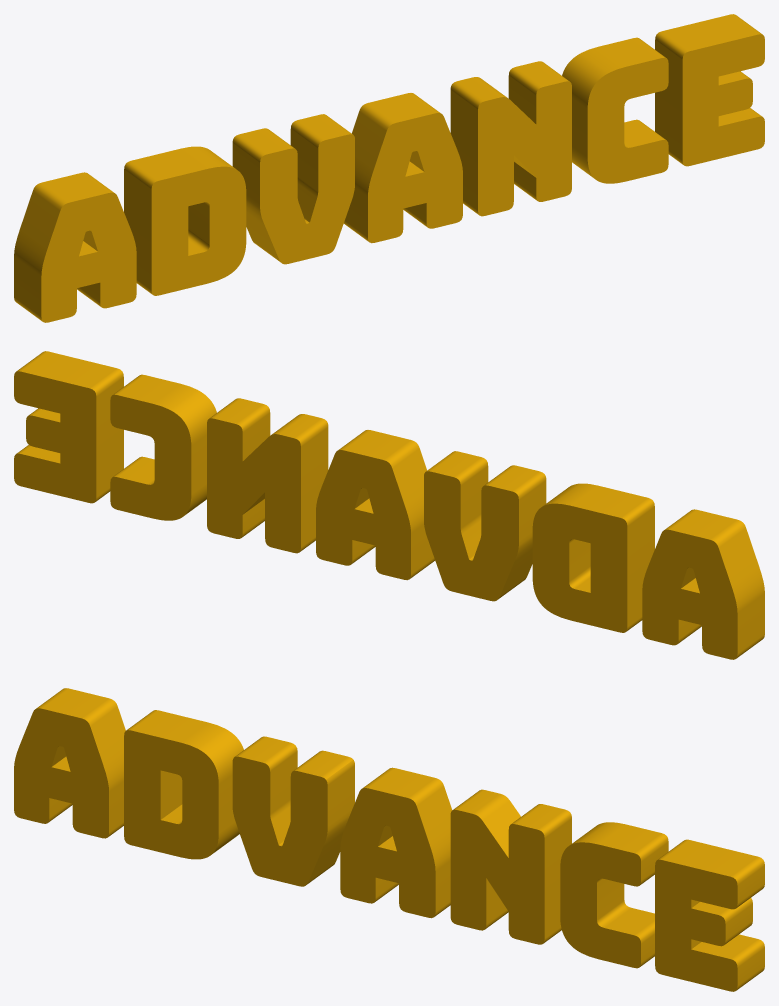
The model's file is Advancesettings.fbx.
3 views of the same model, one above another, from view 1: azimuth 30°, elevation 25°; view 2: azimuth 150°, elevation 25°; view 3: azimuth 330°, elevation 25° (orthographic).
Parts seen in each view (by area): view 1: typeMesh3; view 2: typeMesh3; view 3: typeMesh3.
Part boxes in pixels (x1=…): typeMesh3: x1=14, y1=14, x2=764, y2=322; typeMesh3: x1=14, y1=351, x2=764, y2=659; typeMesh3: x1=14, y1=688, x2=764, y2=991.
Bounding box in the file's own units: 6.44 × 0.9763 × 0.4236.
